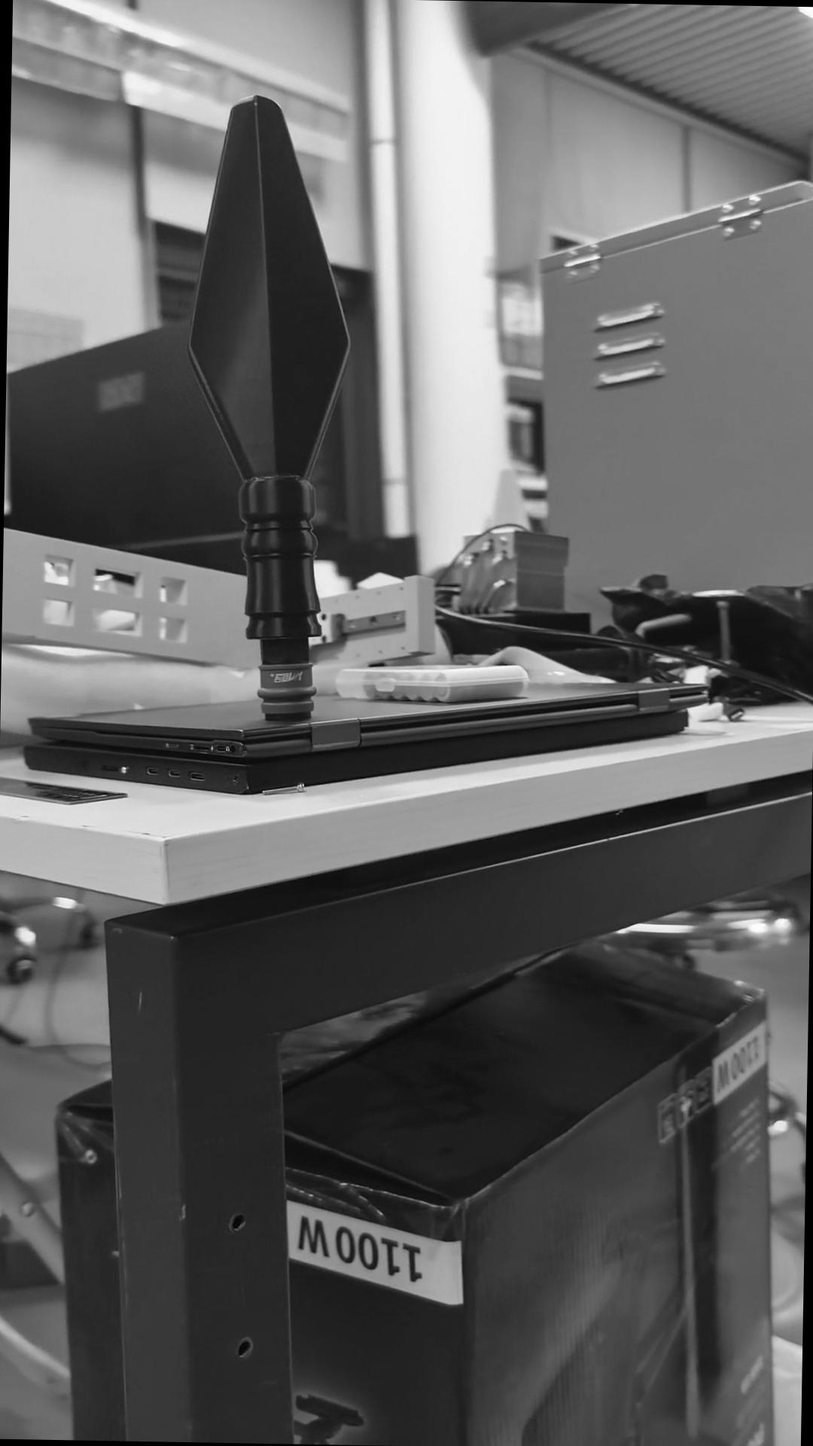base: (257, 661, 317, 718)
